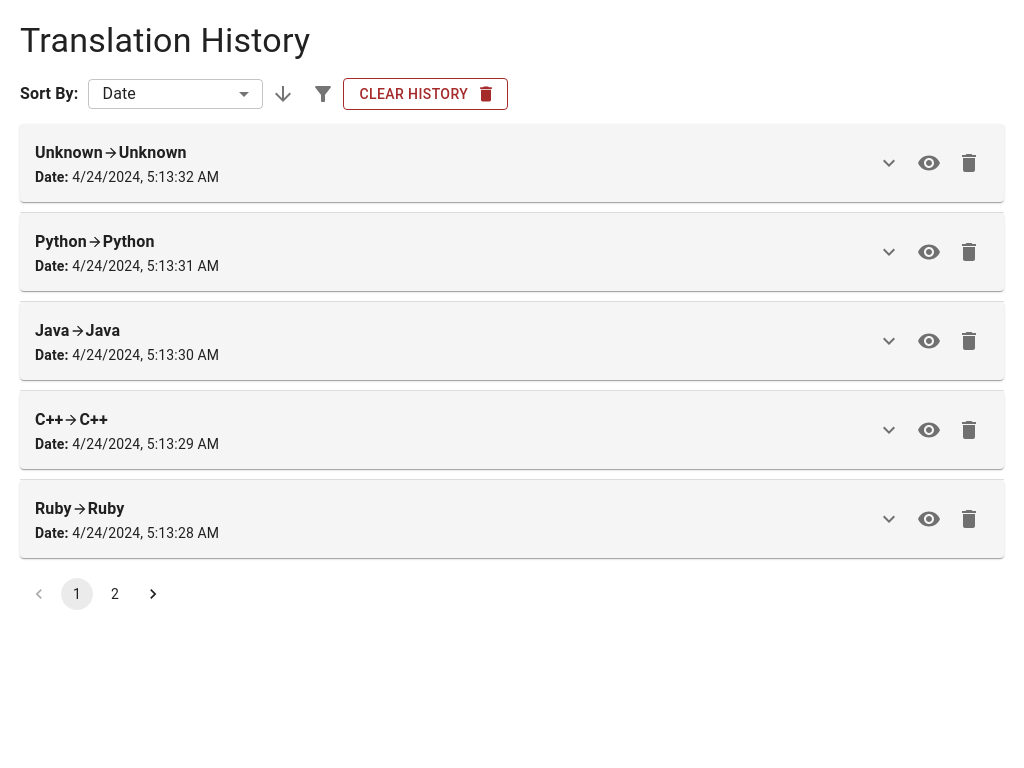
TranslationHistory Component › clear history button works
This screenshot has width=1024, height=768.
Expected: the text "You have no translations!" is not shown
Step 1. Click the button with aria-label "clearHistoryButton" → (426, 94), box [344, 78, 508, 110]
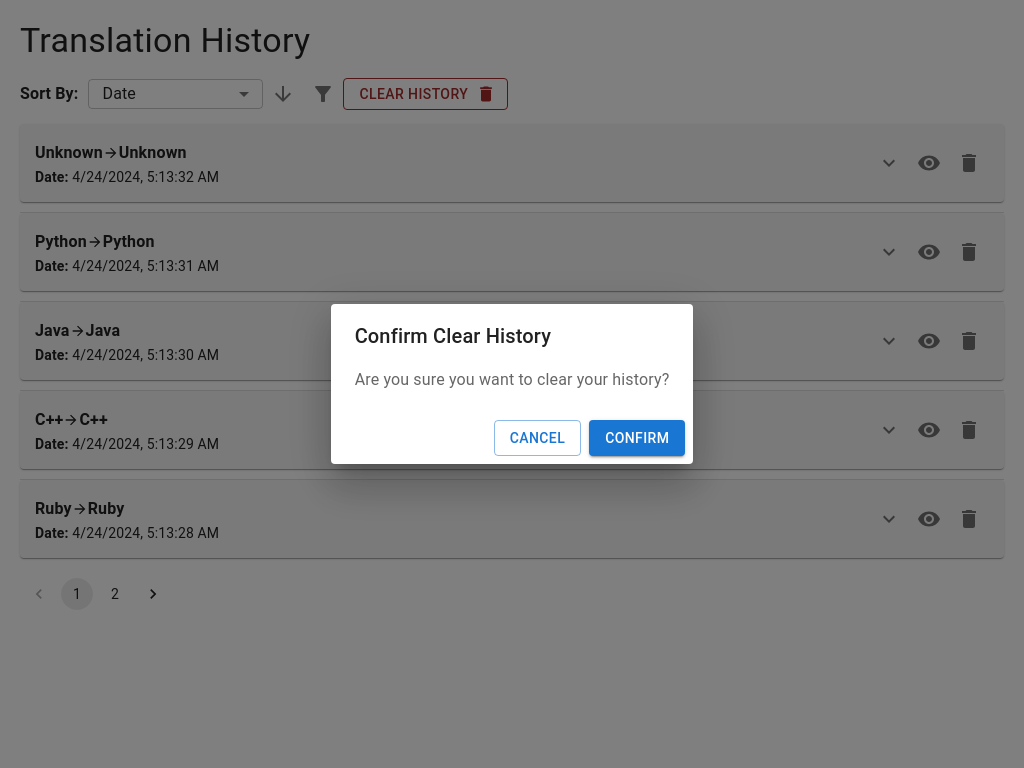
Step 2. Click the button with aria-label "confirmClearHistoryButton" → (637, 438), box [589, 420, 685, 456]
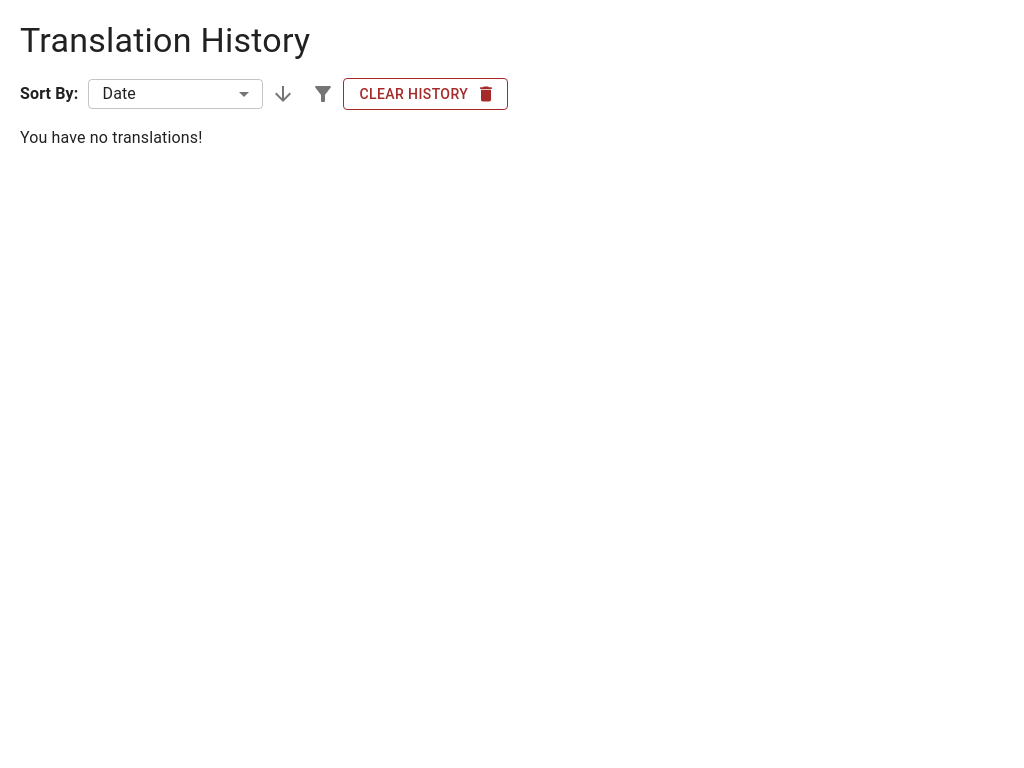
Result: the heading "You have no translations!" is shown at [20, 128, 202, 147]
